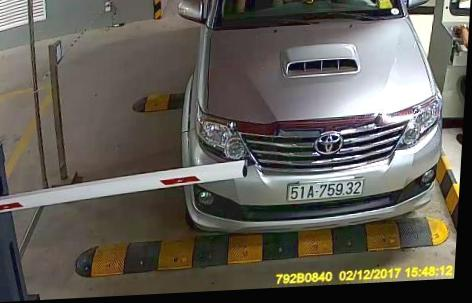License_Plate: (286, 173, 365, 202)
